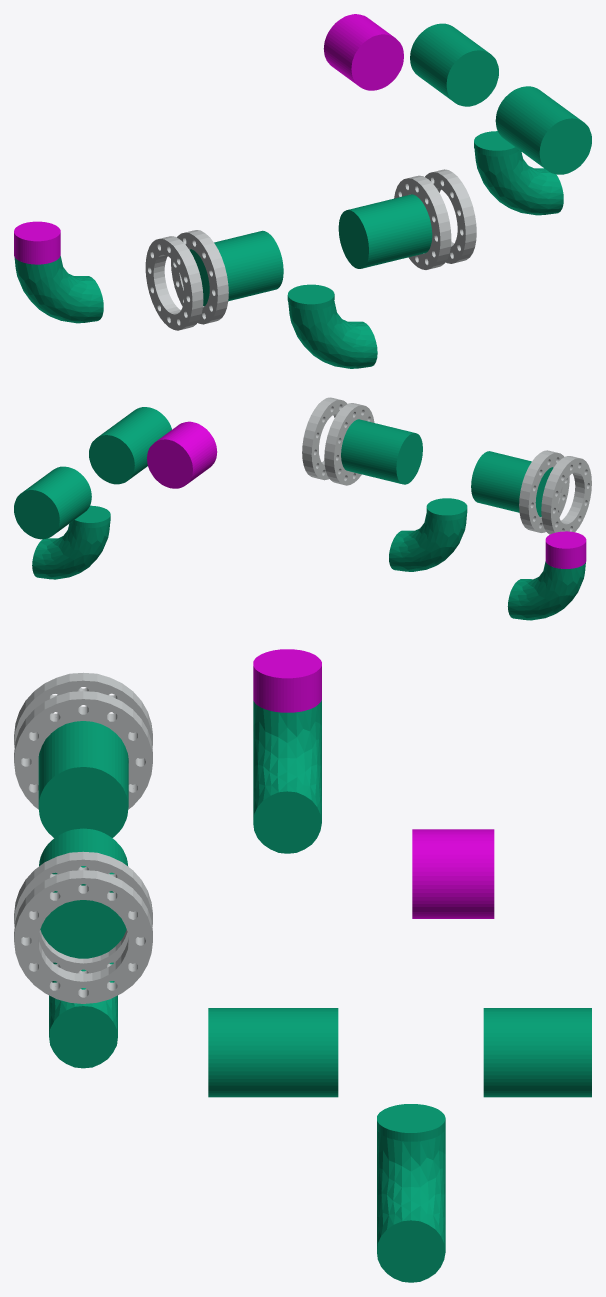
The picture shows the model from 3 angles, top to bottom: view 1: azimuth 30°, elevation 25°; view 2: azimuth 150°, elevation 25°; view 3: azimuth 270°, elevation 25°; orthographic projection. The views are drawn at different scales.
Size of the model in its own units: 2.41 by 0.8733 by 1.41.
